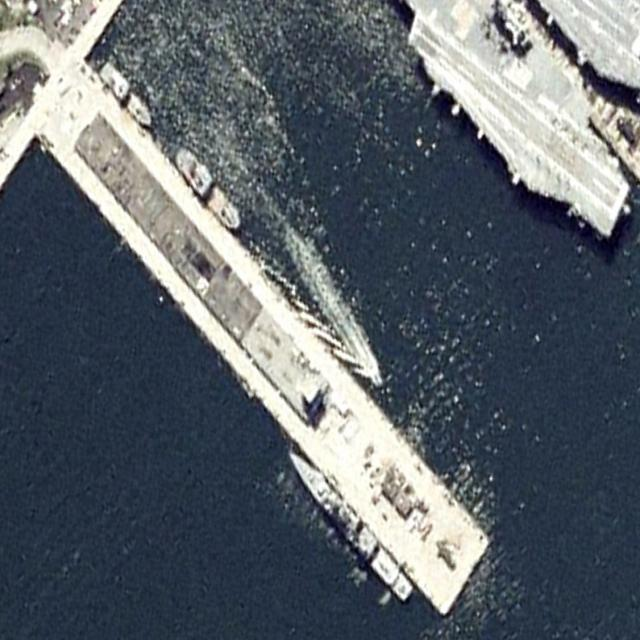Other Ship: (172, 142, 243, 233), (95, 56, 154, 132)
Other Warship: (285, 443, 414, 604)
